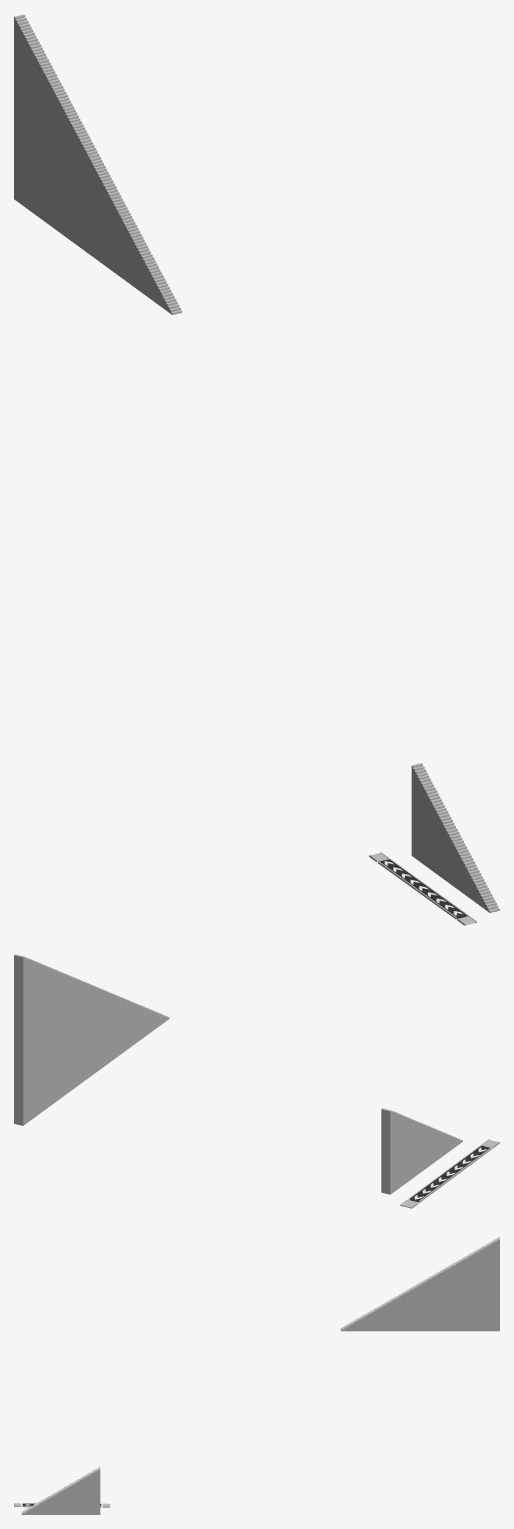
The model's file is Stairs.0.2.0.fbx.
The picture shows the model from 3 angles, top to bottom: view 1: azimuth 30°, elevation 25°; view 2: azimuth 150°, elevation 25°; view 3: azimuth 270°, elevation 25°; orthographic projection. The views are drawn at different scales.
Visible parts, largest first — view 1: Cube.004, Cube.003, Cube; view 2: Cube.004, Cube.003, Cube; view 3: Cube.004, Cube.003.
Boxes of the visible parts, left/top/right/bottom form: Cube.004: left=14, top=14, right=182, bottom=314; Cube.003: left=411, top=763, right=499, bottom=912; Cube: left=378, top=858, right=468, bottom=919; Cube.004: left=14, top=954, right=169, bottom=1125; Cube.003: left=381, top=1108, right=462, bottom=1194; Cube: left=408, top=1145, right=491, bottom=1202; Cube.004: left=340, top=1237, right=499, bottom=1331; Cube.003: left=21, top=1467, right=100, bottom=1514.
Bounding box in the file's own units: 11828 × 145320 × 232288.
